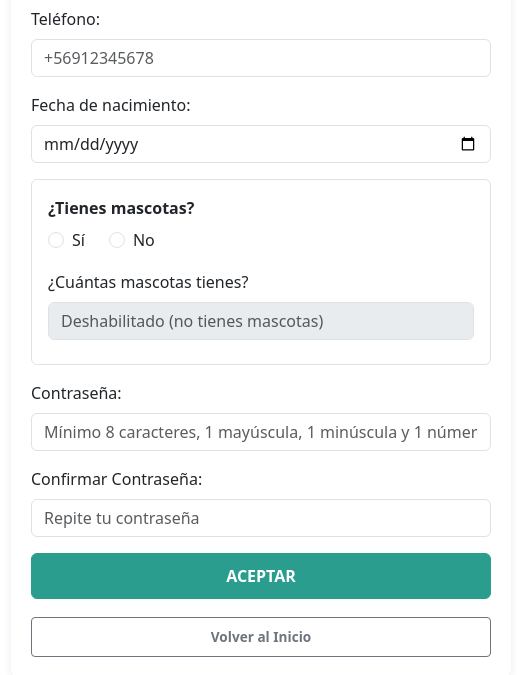
it: FormularioRegistro › Valida los campos obligatorios de contexto veterinario (¿Tienes mascotas? y cuántas)
(page scrolled)
Check: the number field labelled "¿Cuántas mascotas tienes?" is disabled, box [48,302,474,340]
// Act 1: Intentar enviar sin seleccionar si tiene mascotas
Click the button "ACEPTAR".
click(261, 576)  # box [31,553,491,599]
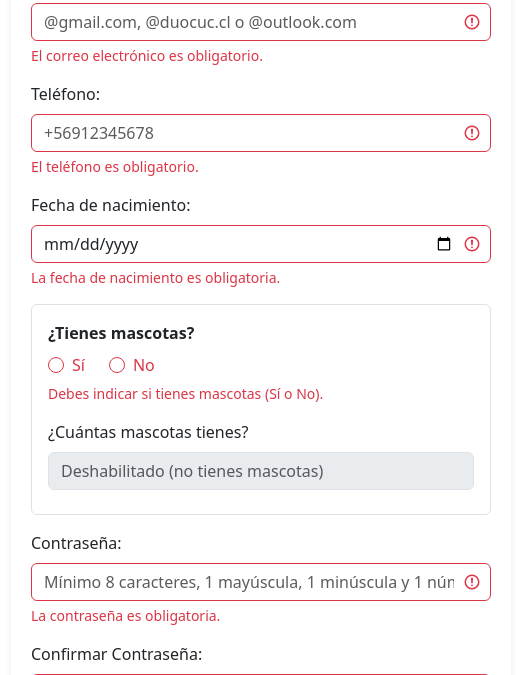
Check: the text "Debes indicar si tienes mascotas (Sí o No)." is shown, box [48,384,323,403]
// Act 2: Seleccionar que Sí tiene mascotas
Click the radio button labelled "Sí".
click(56, 365)  # box [48,357,64,373]
(page scrolled)
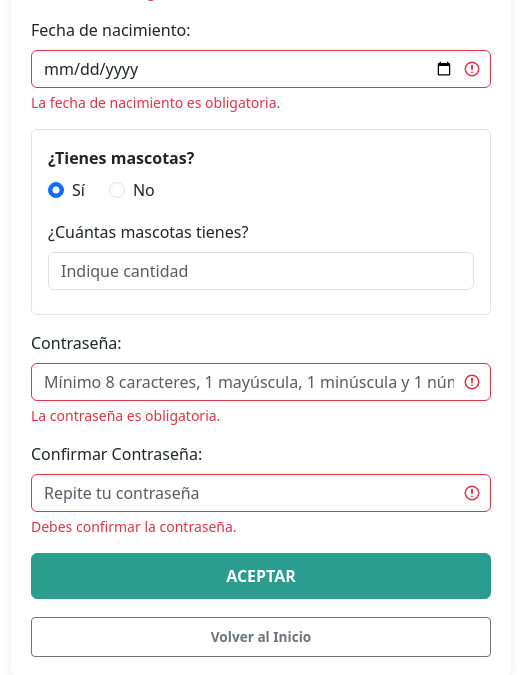
Check: the number field labelled "¿Cuántas mascotas tienes?" is enabled, box [48,252,474,290]
// Act 3: Enviar con cantidad vacía
Click the button "ACEPTAR".
click(261, 576)  # box [31,553,491,599]
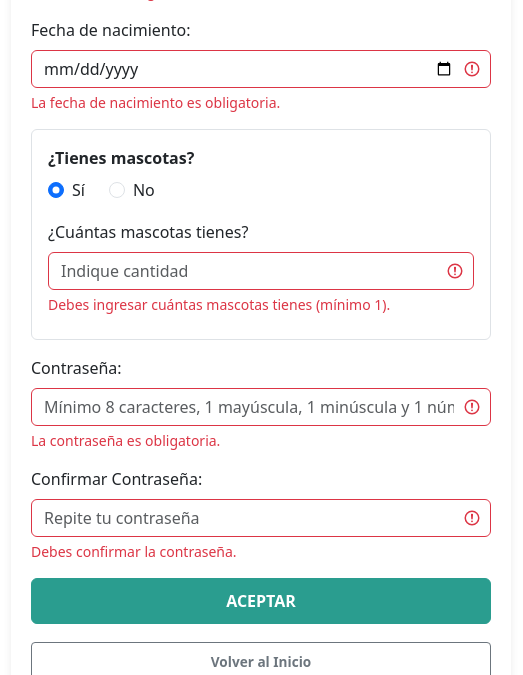
Check: the text "Debes ingresar cuántas mascotas tienes (mínimo 1)." is shown, box [48,295,390,314]
// Act 4: Ingresar 2 mascotas y cambiar a No
Type "2" into the number field labelled "¿Cuántas mascotas tienes?".
click(261, 271); type("2")  # box [48,252,474,290]
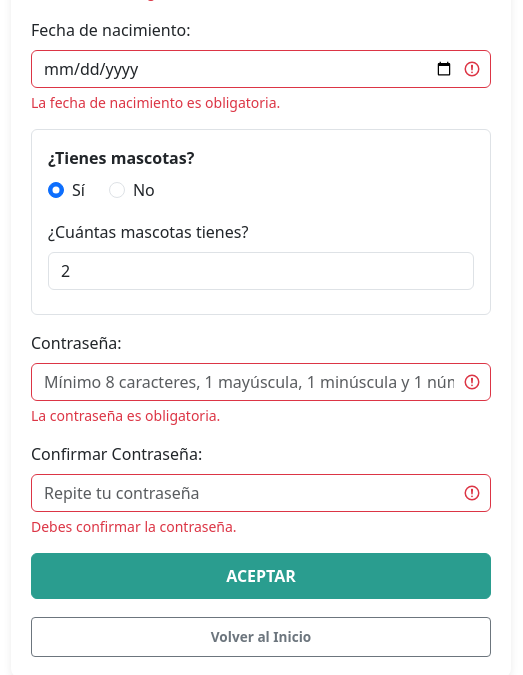
Click the radio button labelled "No".
click(117, 190)  # box [109,182,125,198]
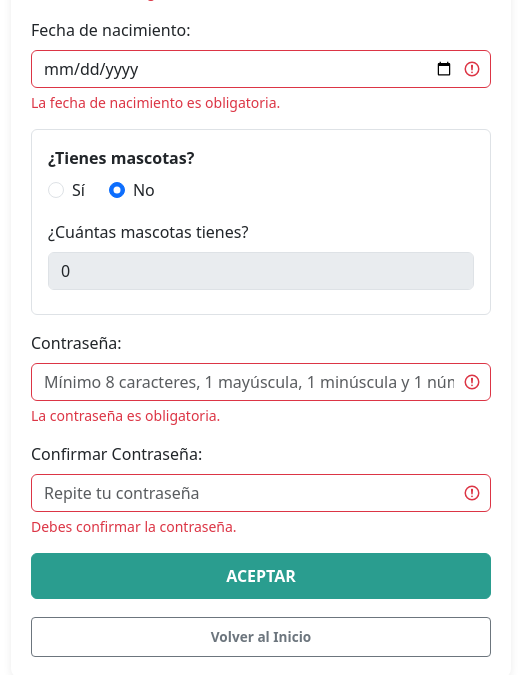
Check: the number field labelled "¿Cuántas mascotas tienes?" is disabled, box [48,252,474,290]
Check: the number field labelled "¿Cuántas mascotas tienes?" holds "0", box [48,252,474,290]
